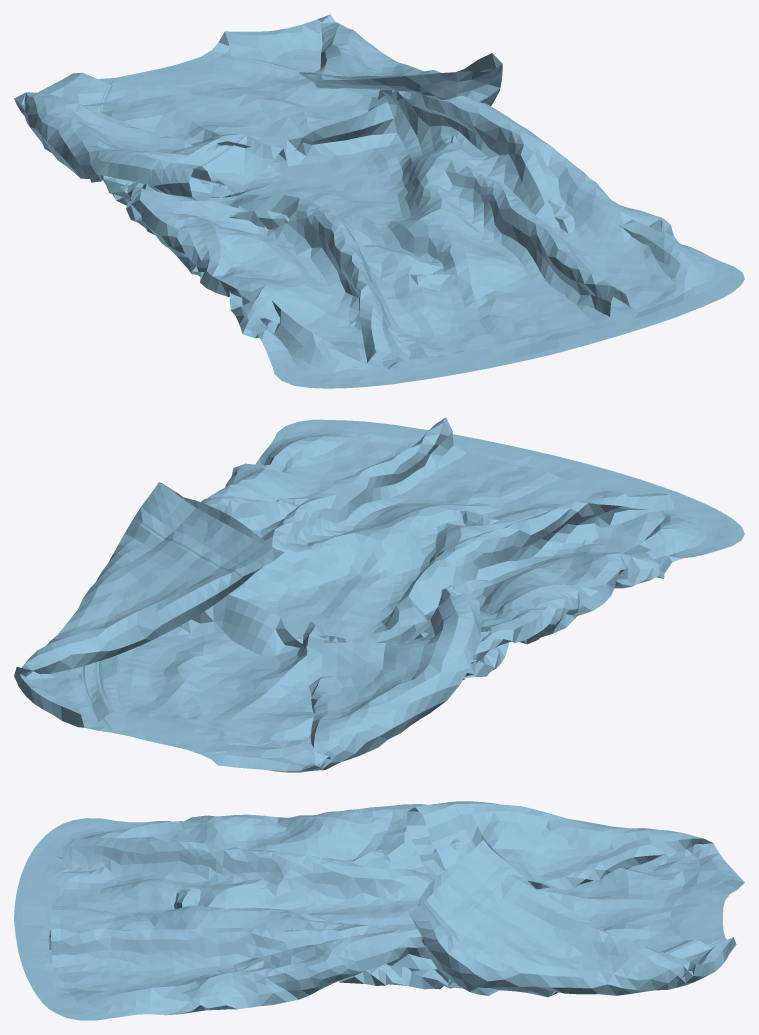
File: frame_18.glb
3 renders of one model, top to bottom at view 1: azimuth 30°, elevation 25°; view 2: azimuth 150°, elevation 25°; view 3: azimuth 270°, elevation 25°, orthographic. The views are drawn at different scales.
Visible parts, largest first — view 1: frame_18.obj; view 2: frame_18.obj; view 3: frame_18.obj.
Boxes of the visible parts, x1=… form: frame_18.obj: x1=14, y1=14, x2=744, y2=388; frame_18.obj: x1=14, y1=417, x2=744, y2=772; frame_18.obj: x1=14, y1=801, x2=744, y2=1020.
Bounding box in the file's own units: 1.19 × 0.264 × 1.81.
